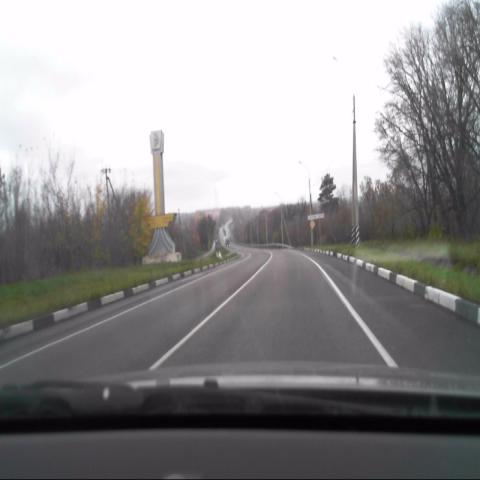2_1: (310, 219, 316, 230)
